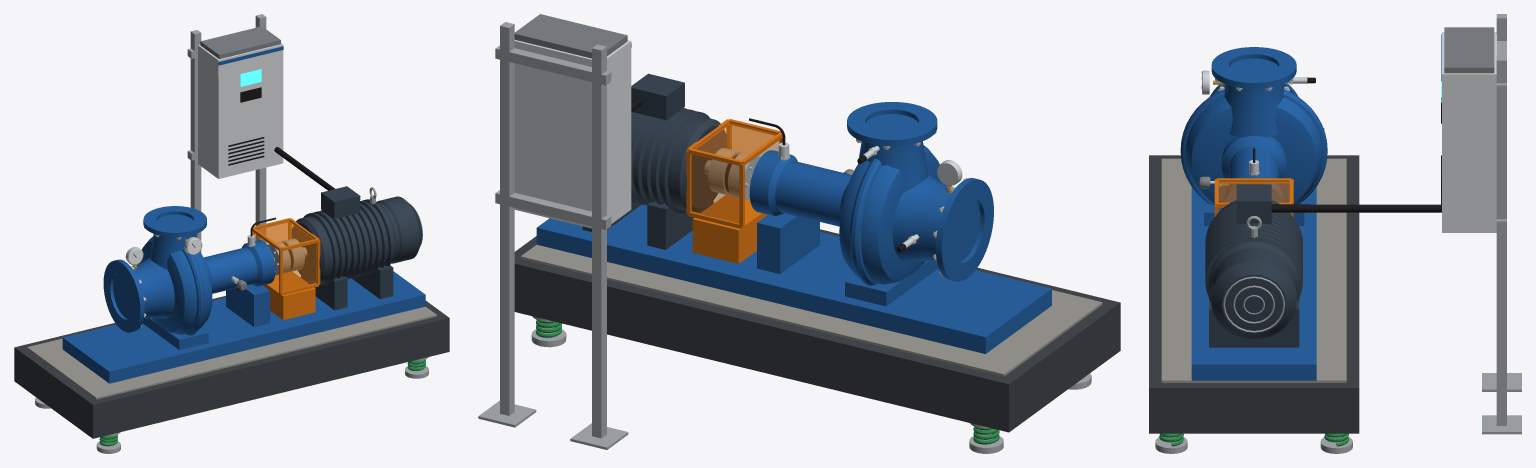
Rendered from pump-cwp.glb.
The picture shows the model from 3 angles, left to right: view 1: azimuth 30°, elevation 25°; view 2: azimuth 150°, elevation 25°; view 3: azimuth 270°, elevation 25°; orthographic projection. The views are drawn at different scales.
Visible parts, largest first — view 1: CWP_InertiaBase, CWP_VFD, CWP_Casing, CWP_Motor, CWP_CouplingGuard, CWP_BearingFrame, CWP_Coupling; view 2: CWP_InertiaBase, CWP_VFD, CWP_Casing, CWP_Motor, CWP_CouplingGuard, CWP_BearingFrame, CWP_Coupling; view 3: CWP_InertiaBase, CWP_VFD, CWP_Casing, CWP_Motor, CWP_BearingFrame, CWP_CouplingGuard.
Part boxes in pixels (box(x1,y1,x2,y2)): CWP_InertiaBase: box(14, 271, 449, 453); CWP_VFD: box(187, 14, 334, 252); CWP_Casing: box(103, 206, 212, 349); CWP_Motor: box(291, 186, 422, 310); CWP_CouplingGuard: box(252, 218, 320, 319); CWP_BearingFrame: box(203, 240, 275, 327); CWP_Coupling: box(268, 238, 307, 275); CWP_InertiaBase: box(514, 204, 1120, 453); CWP_VFD: box(478, 14, 642, 449); CWP_Casing: box(839, 102, 993, 306); CWP_Motor: box(582, 73, 726, 249); CWP_CouplingGuard: box(686, 119, 782, 263); CWP_BearingFrame: box(749, 150, 851, 273); CWP_Coupling: box(704, 148, 760, 200); CWP_InertiaBase: box(1149, 155, 1359, 453); CWP_VFD: box(1271, 14, 1521, 434); CWP_Casing: box(1180, 47, 1327, 225); CWP_Motor: box(1205, 184, 1302, 347); CWP_BearingFrame: box(1221, 136, 1286, 202); CWP_CouplingGuard: box(1214, 178, 1293, 216).
Size of the model in its own units: 2.21 by 1.62 by 1.49.
